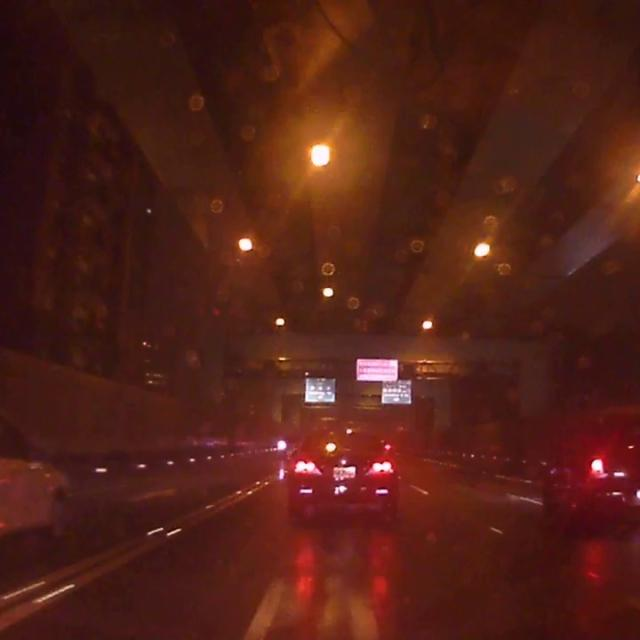Car: (285, 415, 402, 529), (540, 414, 639, 527), (0, 412, 79, 549)
